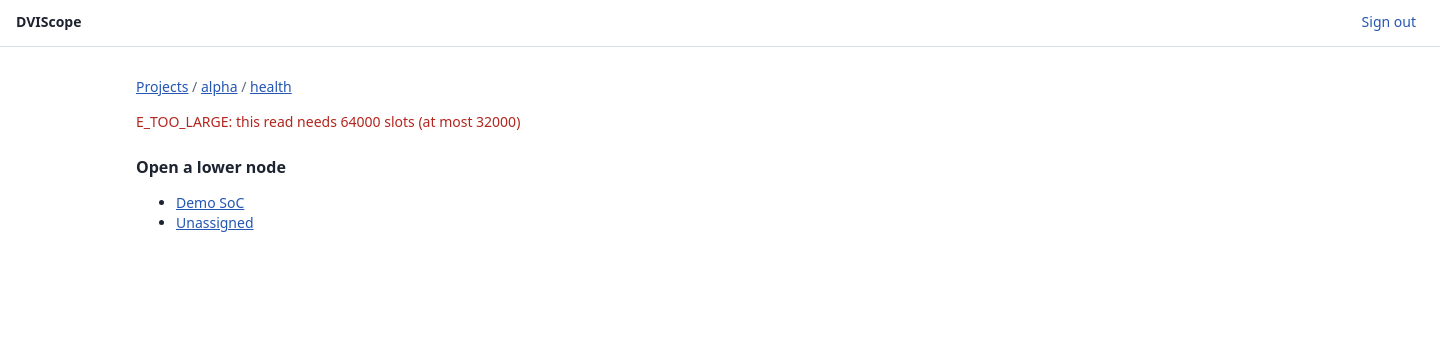
Test: health dashboard › keeps the way down when a page is too large: the hierarchy lists the lower nodes
This screenshot has width=1440, height=341.
Click the link "Demo SoC" at (210, 203), box [176,193,244,212]
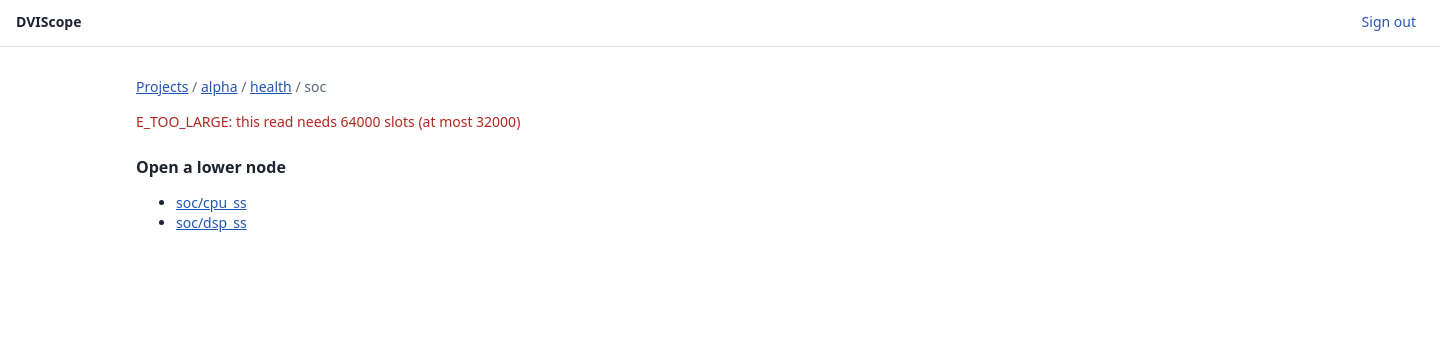
Click the link "soc/cpu_ss" at (211, 203), box [176,193,247,212]
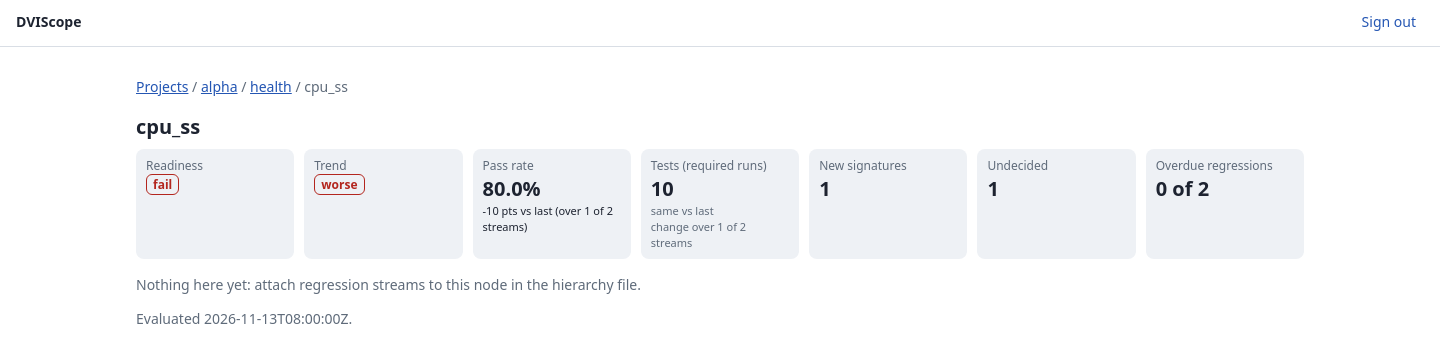
Result: the heading "cpu_ss" is shown at [136,113,200,140]
